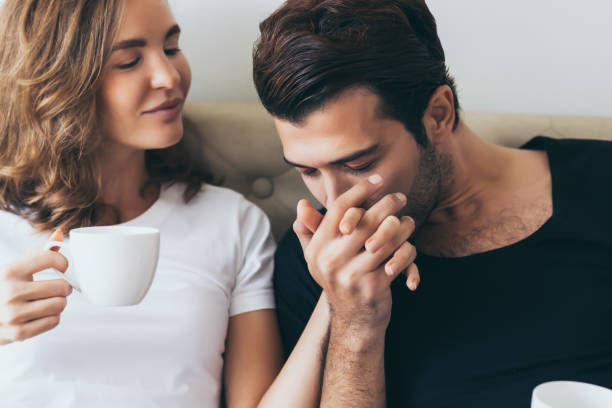without mask: (270, 84, 463, 254), (81, 1, 197, 157)
